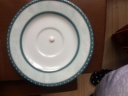Yuvarlak Buskopan: (49, 36, 55, 42)
